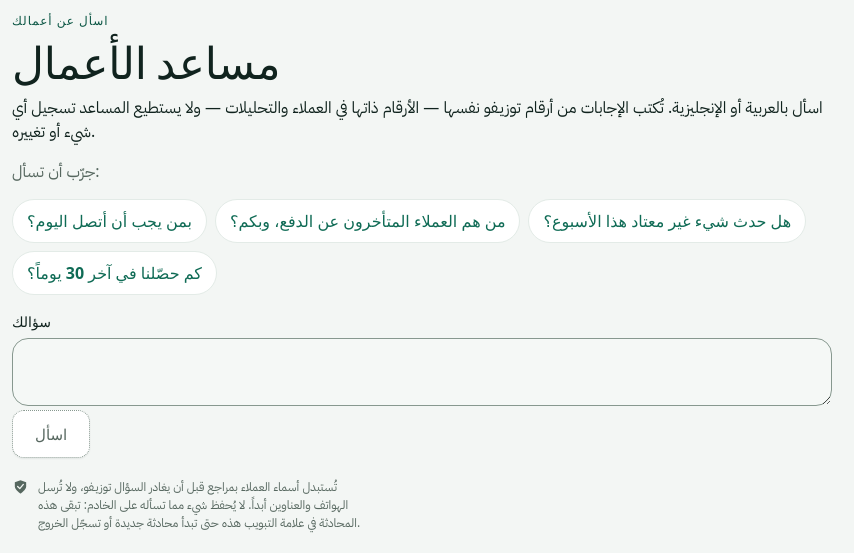
Test: the assistant speaks Arabic in an Arabic workspace and keeps each message's own direction
Click the button "بمن يجب أن أتصل اليوم؟": [109, 221] box [12, 199, 207, 243]
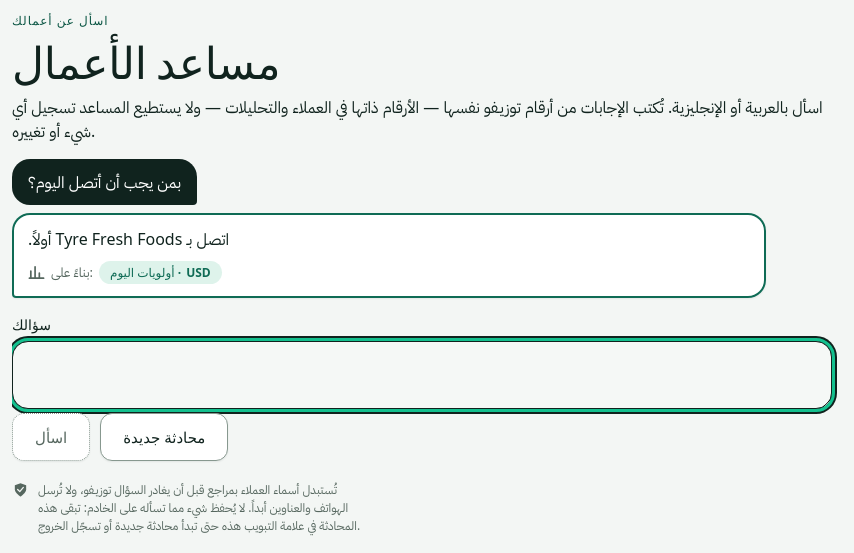
expect the heading "مساعد الأعمال" is shown: met, box [12, 34, 280, 91]
expect the text "أولويات اليوم" is shown: met, box [110, 264, 175, 281]
